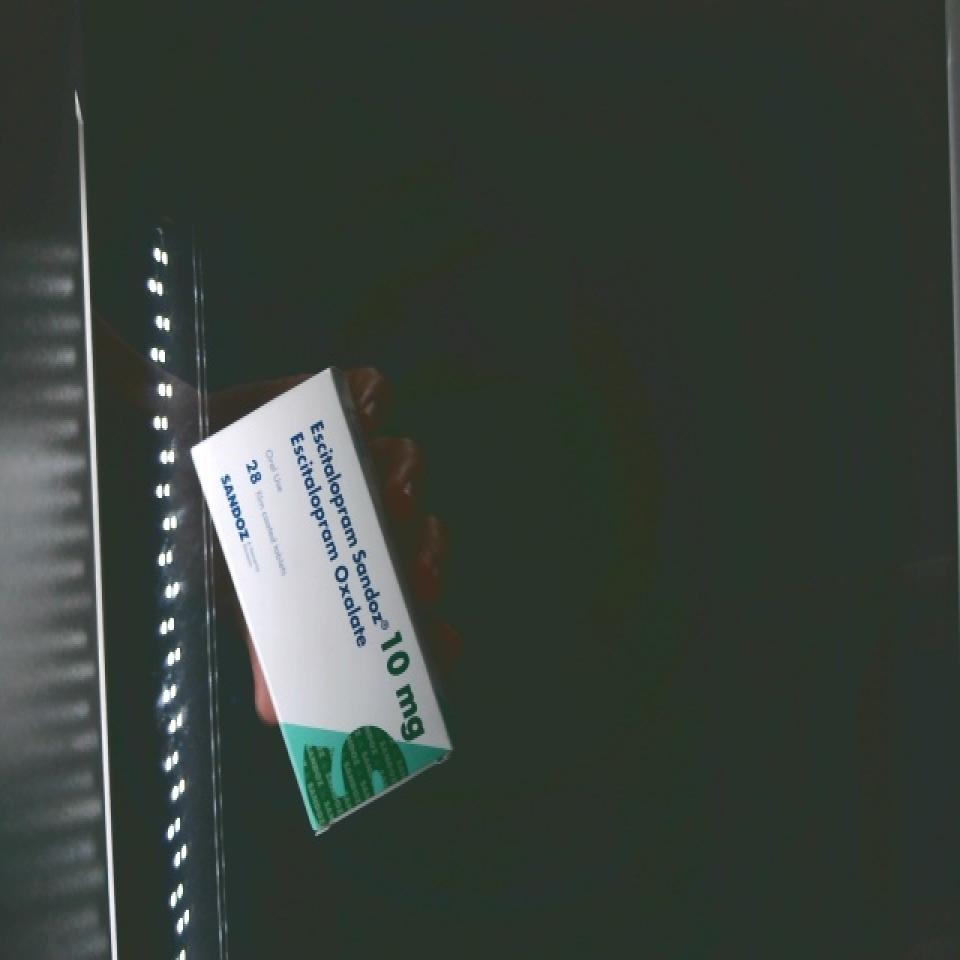medicine_box: (178, 363, 463, 837)
medicine_label_obb: (267, 387, 415, 663)
